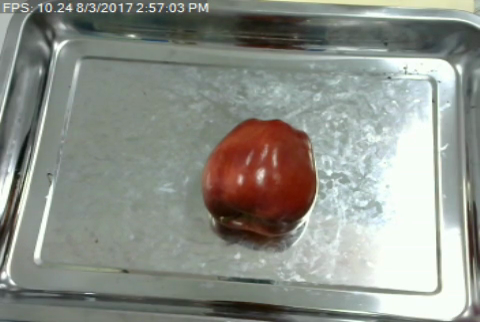Apple: (199, 117, 321, 241)
